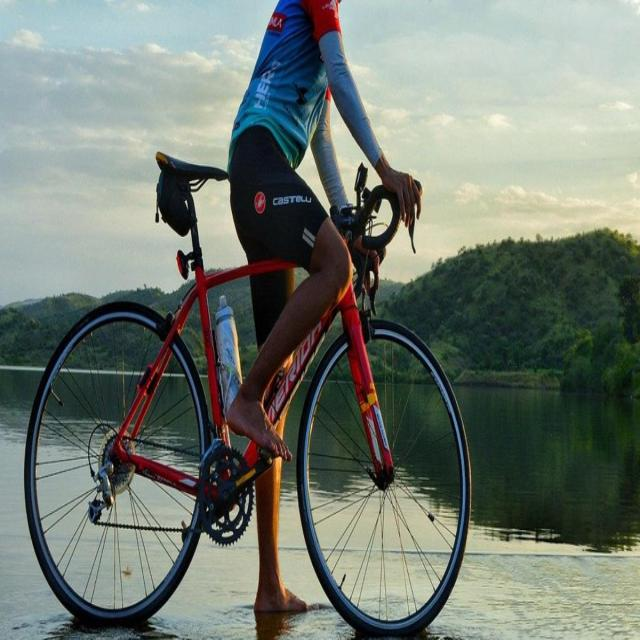bicycle: (25, 0, 470, 636)
